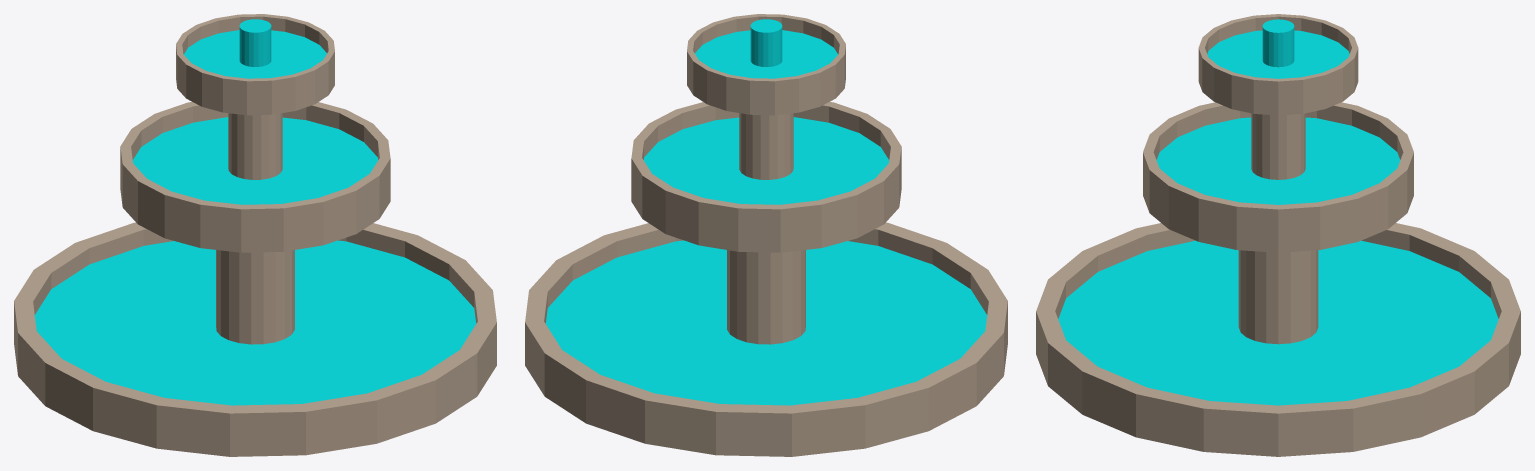
Rendered from teri1(fountain).fbx.
3 views of the same model, side by side, from view 1: azimuth 30°, elevation 25°; view 2: azimuth 150°, elevation 25°; view 3: azimuth 270°, elevation 25° (orthographic).
Visible parts, largest first — view 1: group3_pasted__group1_pasted__pasted__group_pasted__pasted__; view 2: group3_pasted__group1_pasted__pasted__group_pasted__pasted__; view 3: group3_pasted__group1_pasted__pasted__group_pasted__pasted__.
Part boxes in pixels (left/top/right/bottom): group3_pasted__group1_pasted__pasted__group_pasted__pasted__: left=14, top=14, right=496, bottom=456; group3_pasted__group1_pasted__pasted__group_pasted__pasted__: left=525, top=14, right=1007, bottom=456; group3_pasted__group1_pasted__pasted__group_pasted__pasted__: left=1036, top=14, right=1520, bottom=456.
Size of the model in its own units: 4.45 by 3.32 by 4.45.
